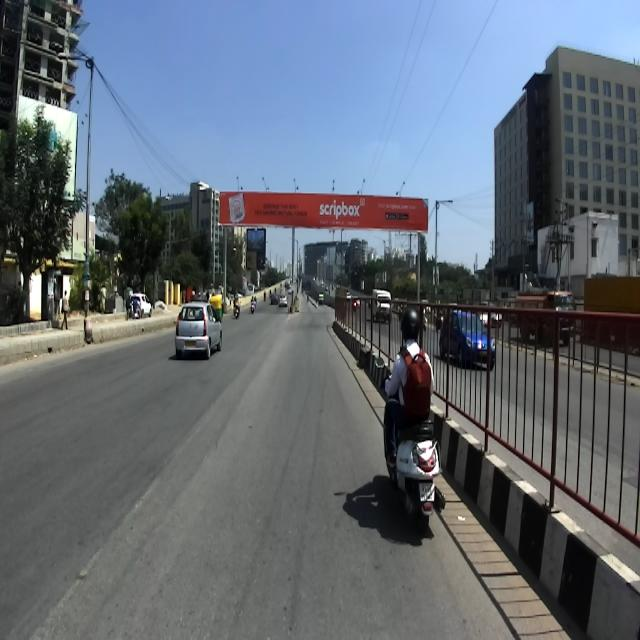car ahead at: (172, 299, 225, 366)
motorcycle ahead at: (384, 403, 444, 520)
